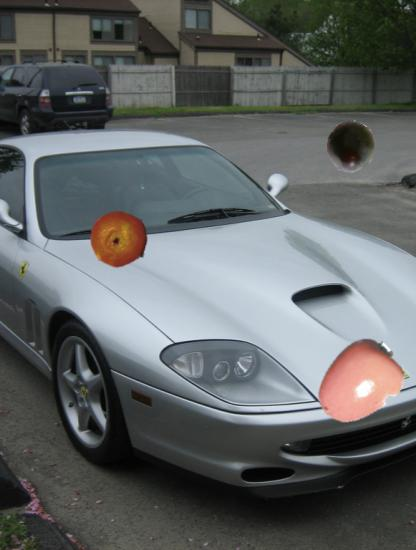Clementine: (90, 210, 150, 270)
Kaki: (313, 337, 406, 430)
Plum: (325, 121, 378, 174)
